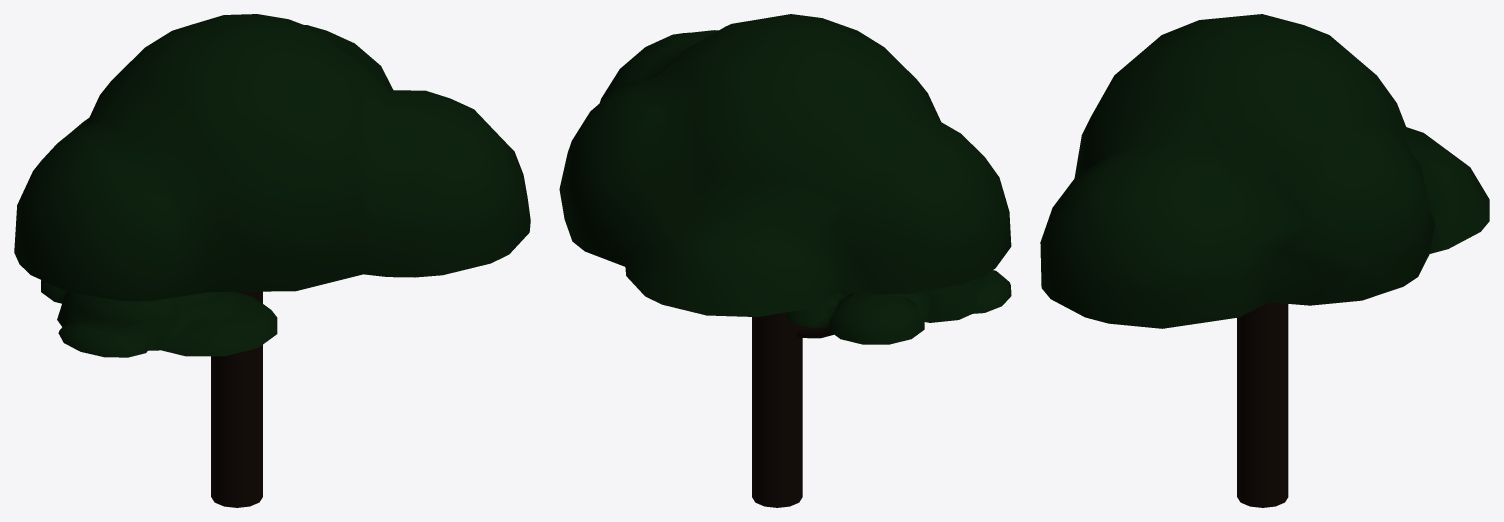
File: Prop_Tree_02.FBX
The picture shows the model from 3 angles, left to right: view 1: azimuth 30°, elevation 25°; view 2: azimuth 150°, elevation 25°; view 3: azimuth 270°, elevation 25°; orthographic projection. The views are drawn at different scales.
Visible parts, largest first — view 1: Prop_Tree_02; view 2: Prop_Tree_02; view 3: Prop_Tree_02.
Boxes of the visible parts, x1,y1,x2,y2 form: Prop_Tree_02: (14, 14, 530, 507); Prop_Tree_02: (559, 14, 1011, 507); Prop_Tree_02: (1040, 14, 1489, 507).
Size of the model in its own units: 169 by 173 by 150.
